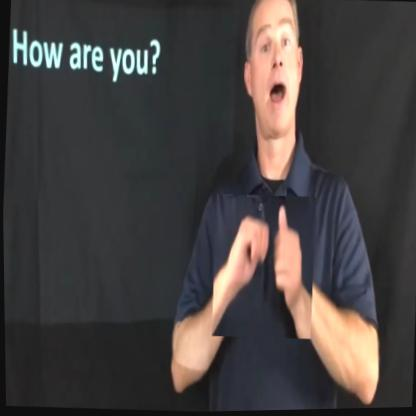HowAreYou: (208, 194, 316, 342)
